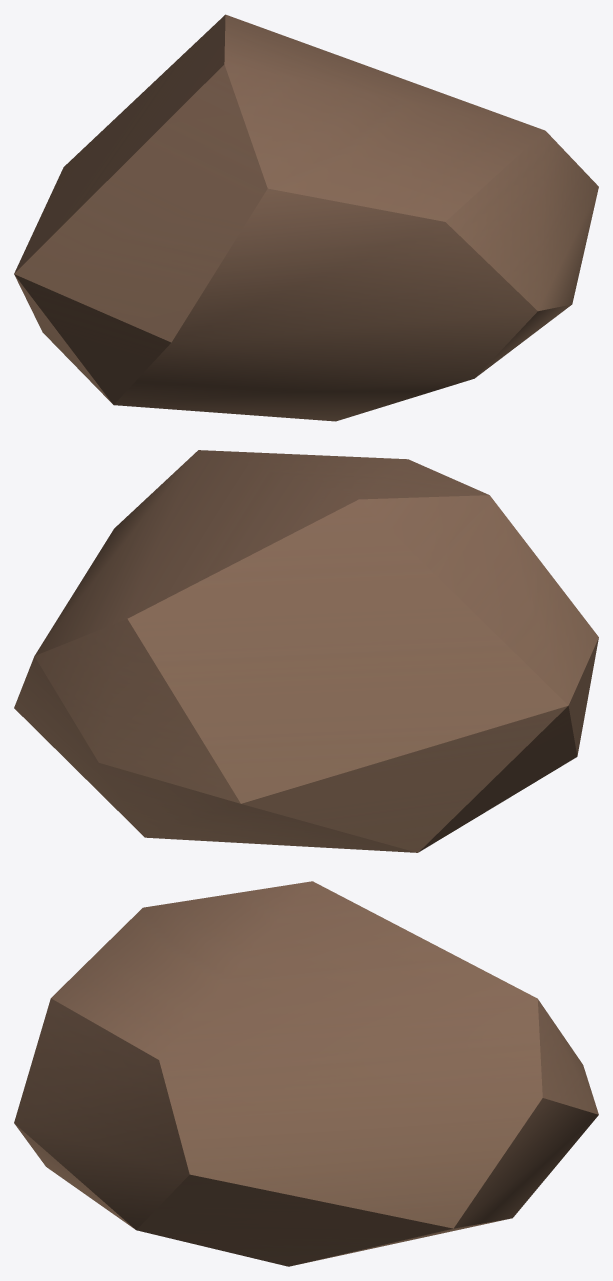
The model's file is Stone05.fbx.
3 views of the same model, one above another, from view 1: azimuth 30°, elevation 25°; view 2: azimuth 150°, elevation 25°; view 3: azimuth 270°, elevation 25° (orthographic). The views are drawn at different scales.
Visible parts, largest first — view 1: Stone05; view 2: Stone05; view 3: Stone05.
Boxes of the visible parts, box(x1,y1,x2,y2) form: Stone05: box(14, 14, 598, 421); Stone05: box(14, 450, 598, 852); Stone05: box(14, 881, 598, 1266).
Size of the model in its own units: 188 by 113 by 189.
